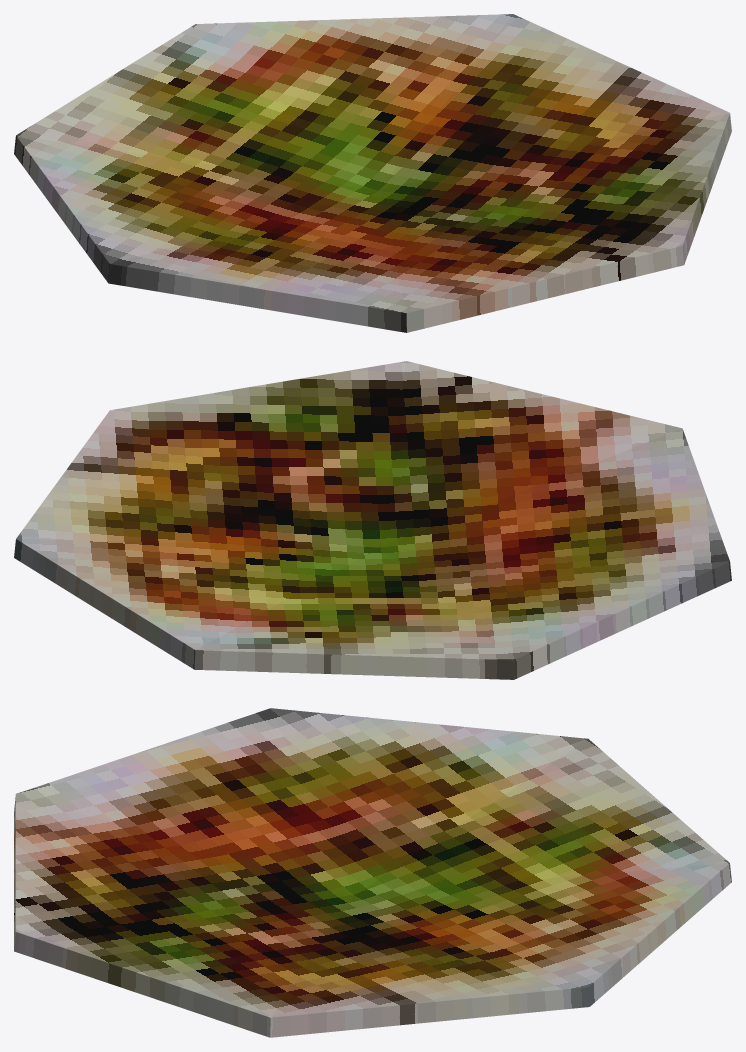
The model's file is plate2.fbx.
The picture shows the model from 3 angles, top to bottom: view 1: azimuth 30°, elevation 25°; view 2: azimuth 150°, elevation 25°; view 3: azimuth 270°, elevation 25°; orthographic projection. The views are drawn at different scales.
Visible parts, largest first — view 1: Sphere; view 2: Sphere; view 3: Sphere.
Part boxes in pixels (bbox=[...]): Sphere: bbox=[14, 14, 731, 332]; Sphere: bbox=[14, 361, 731, 679]; Sphere: bbox=[14, 708, 731, 1037].
Bounding box in the file's own units: 138 × 10.73 × 134.
